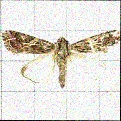Spodoptera litura: (0, 28, 121, 91)
